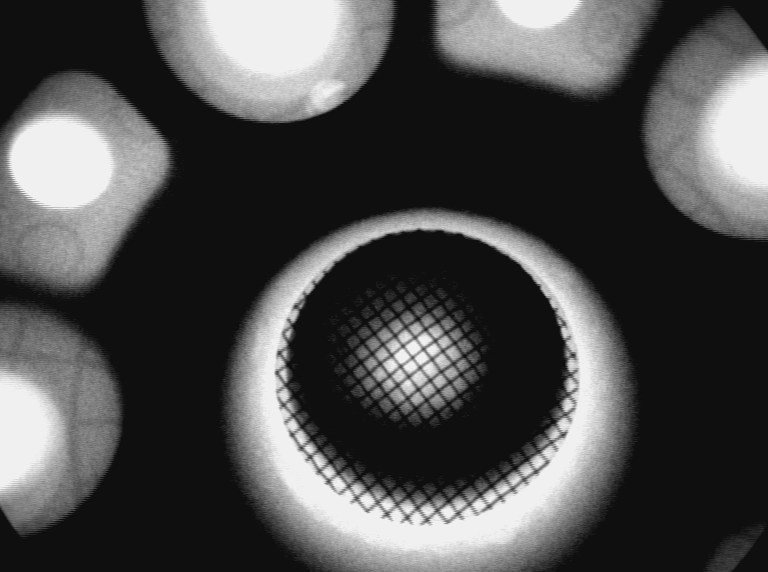defect: (309, 74, 351, 117)
